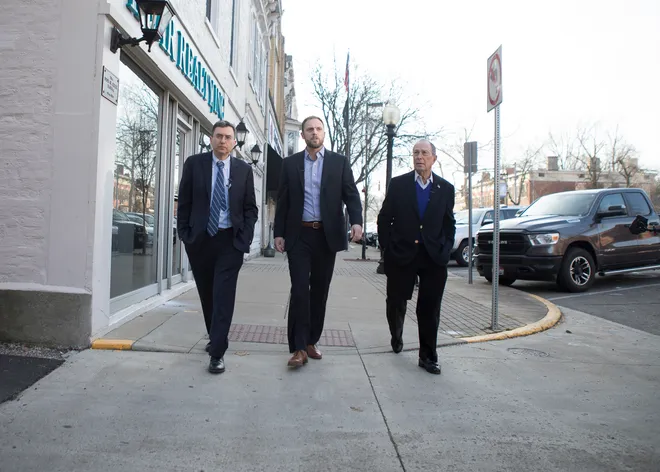person: (275, 116, 365, 370), (173, 119, 260, 375), (376, 138, 455, 375)
